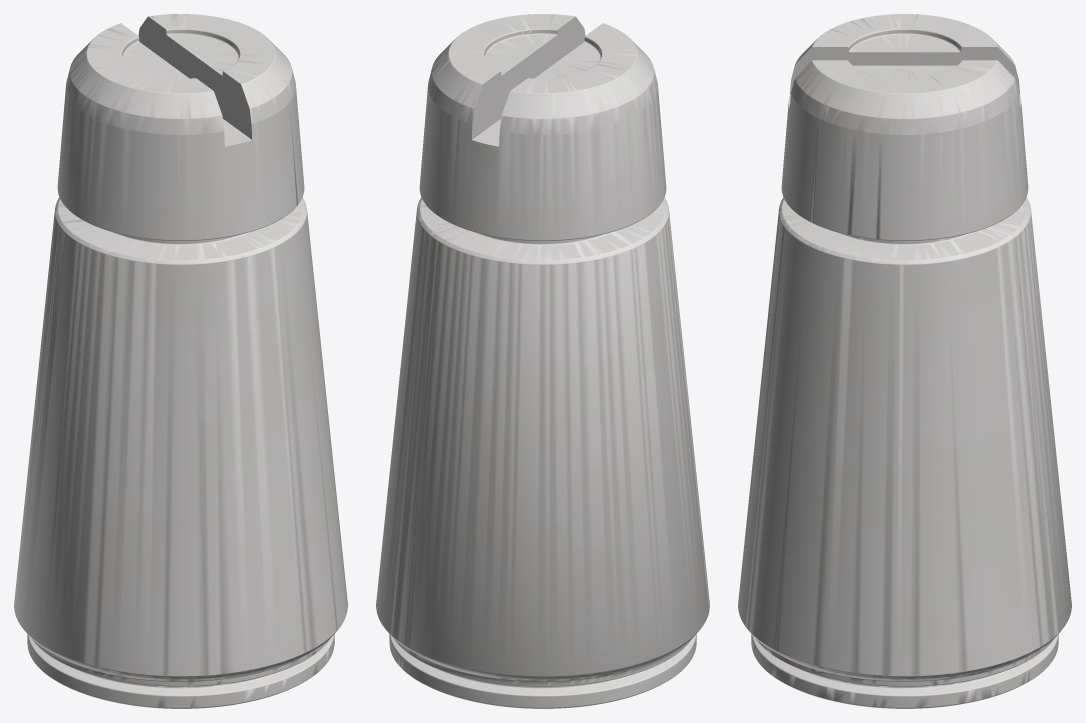
File: rook-white-hd.glb
3 renders of one model, left to right at view 1: azimuth 30°, elevation 25°; view 2: azimuth 150°, elevation 25°; view 3: azimuth 270°, elevation 25°, orthographic.
Visible parts, largest first — view 1: 05_vez_bila; view 2: 05_vez_bila; view 3: 05_vez_bila.
Part boxes in pixels (box(x1,y1,x2,y2)): 05_vez_bila: box(14, 14, 347, 708); 05_vez_bila: box(376, 14, 709, 708); 05_vez_bila: box(738, 14, 1071, 708).
Size of the model in its own units: 0.593 by 1.16 by 0.593.
1 material, 1 textured.
